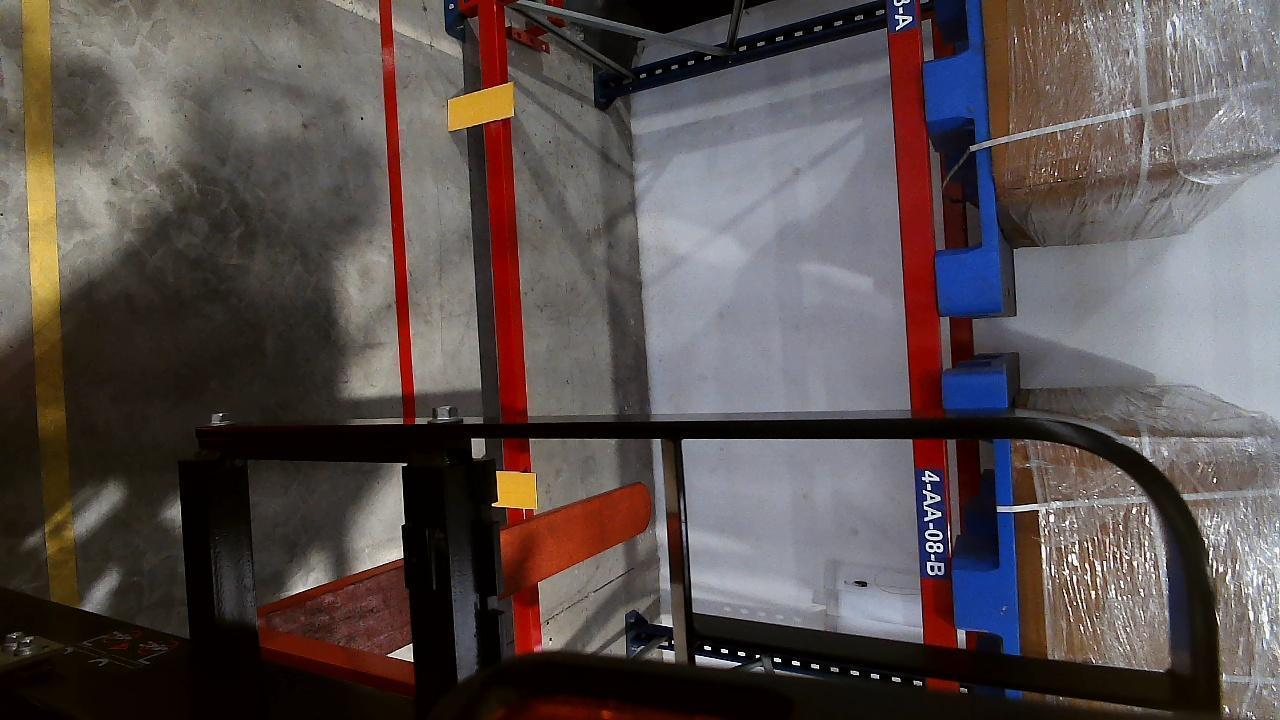red_line: (378, 1, 417, 412)
yellow_line: (17, 0, 75, 607)
